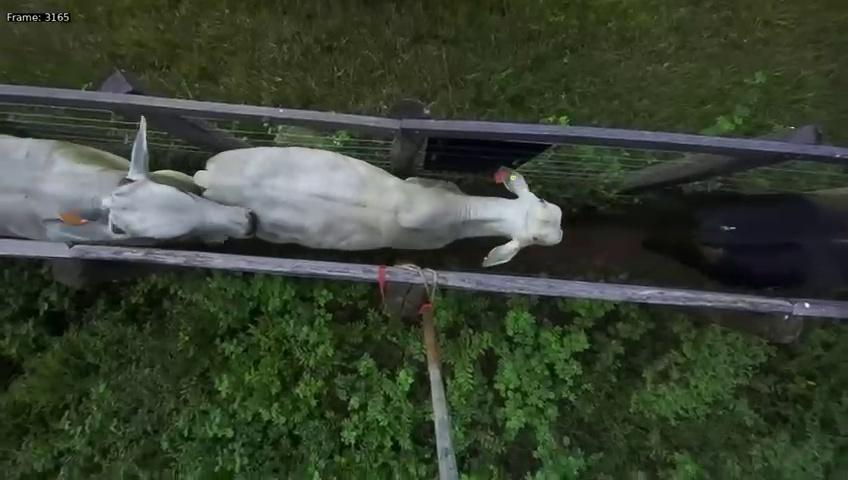cattle: (192, 134, 565, 268), (0, 104, 259, 255)
